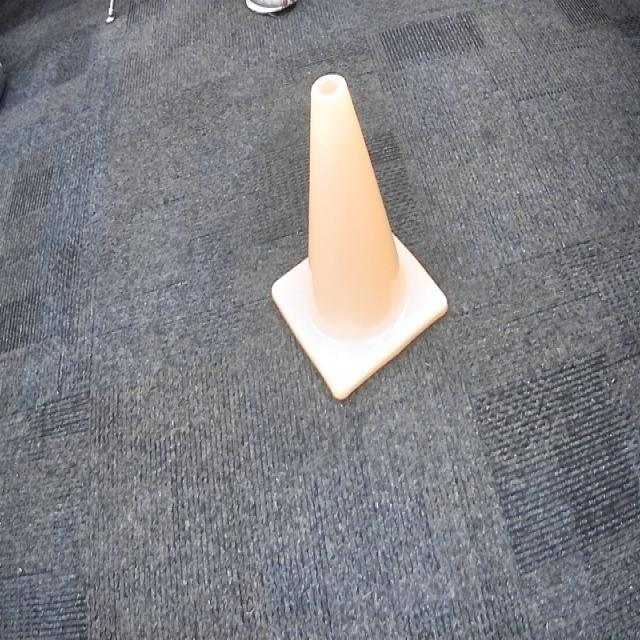cone: (266, 62, 452, 407)
